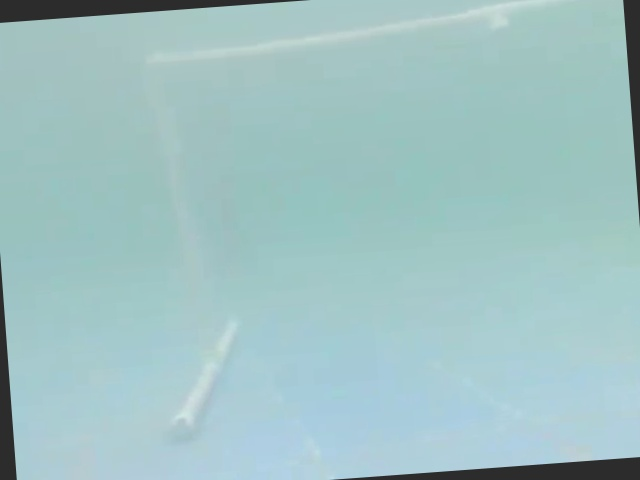gate: (102, 15, 617, 441)
